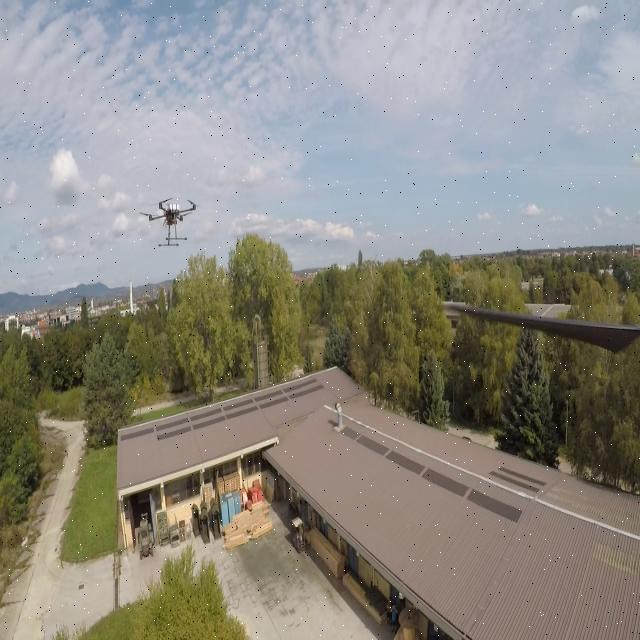UAV: (143, 190, 197, 253)
